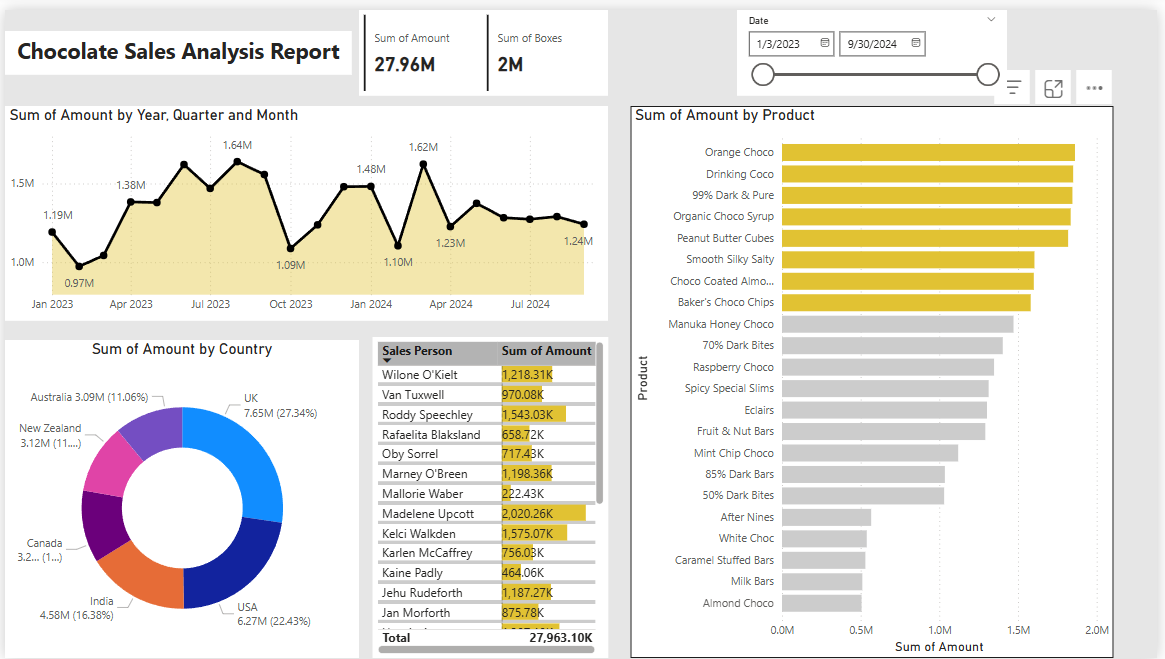

Layout of this report page (visuals, bound fields, positions):
{"tool":"powerbi","page":{"name":"My first project","canvas":[1280,720],"ordinal":1},"visuals":[{"type":"lineChart","fields":{"Category":["data.Date.Variation.Date Hierarchy.Year","data.Date.Variation.Date Hierarchy.Quarter","data.Date.Variation.Date Hierarchy.Month","data.Date.Variation.Date Hierarchy.Day"],"Y":["data.Amount"]},"box":[0,106.7,670,238.3],"z":0},{"type":"donutChart","fields":{"Y":["data.Amount"],"Category":["data.Country"]},"box":[0,366.7,393.3,353.3],"z":1000},{"type":"tableEx","fields":{"Values":["data.Sales Person","data.Amount"]},"box":[408.3,363.3,261.7,356.7],"z":2000},{"type":"barChart","fields":{"Category":["data.Product"],"Y":["data.Amount"]},"box":[695,106.7,536.7,613.3],"z":3000},{"type":"cardVisual","fields":{"Data":["data.Amount","data.Boxes"]},"box":[393.3,0,276.7,95],"z":4000},{"type":"slicer","fields":{"Values":["data.Date"]},"box":[813.3,0,300,95],"z":5000},{"type":"textbox","box":[0,23.3,385,48.3],"z":5001}]}

Visuals, with their boxes in screenshot pixels (x1, y1, x2, y2), scaled from the page's 1280x720 canvas onto the 1165x659 screenshot:
lineChart - data.Date.Variation.Date Hierarchy.Year x data.Date.Variation.Date Hierarchy.Quarter: BBox(0, 98, 610, 316)
donutChart - data.Amount x data.Country: BBox(0, 336, 358, 658)
tableEx - data.Sales Person x data.Amount: BBox(372, 333, 610, 658)
barChart - data.Product x data.Amount: BBox(633, 98, 1121, 658)
cardVisual - data.Amount x data.Boxes: BBox(358, 0, 610, 87)
slicer - data.Date: BBox(740, 0, 1013, 87)
textbox: BBox(0, 21, 350, 66)
